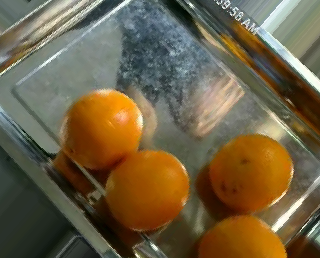Orange: (207, 132, 294, 215), (58, 88, 144, 170), (103, 149, 188, 230)
